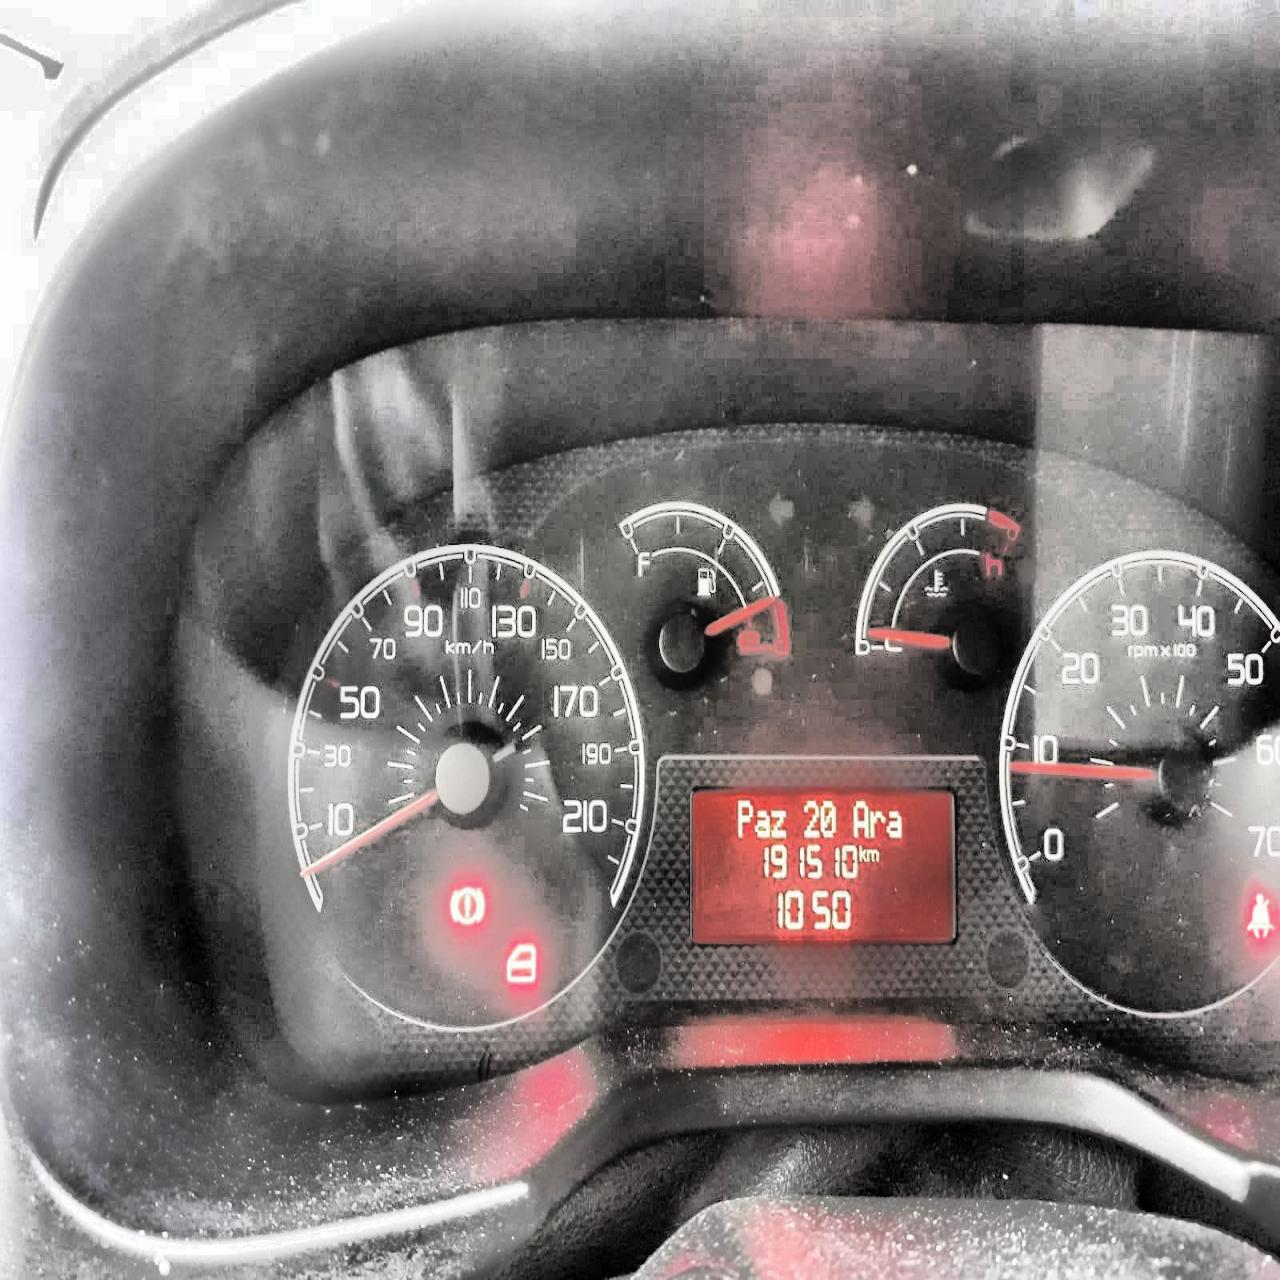0: (783, 888, 803, 931), (831, 890, 851, 931), (819, 797, 836, 838), (840, 843, 856, 879)
1: (797, 843, 805, 878), (832, 843, 840, 878), (776, 890, 783, 931), (762, 843, 769, 879)
2: (802, 798, 821, 838)
5: (810, 887, 830, 931), (805, 843, 823, 880)
9: (769, 842, 787, 880)
X: (851, 798, 870, 837), (736, 797, 753, 836), (754, 806, 771, 838), (886, 808, 904, 838), (770, 808, 788, 838), (870, 809, 885, 837), (866, 847, 879, 864), (858, 843, 866, 863)
odometer: (687, 784, 956, 942)
